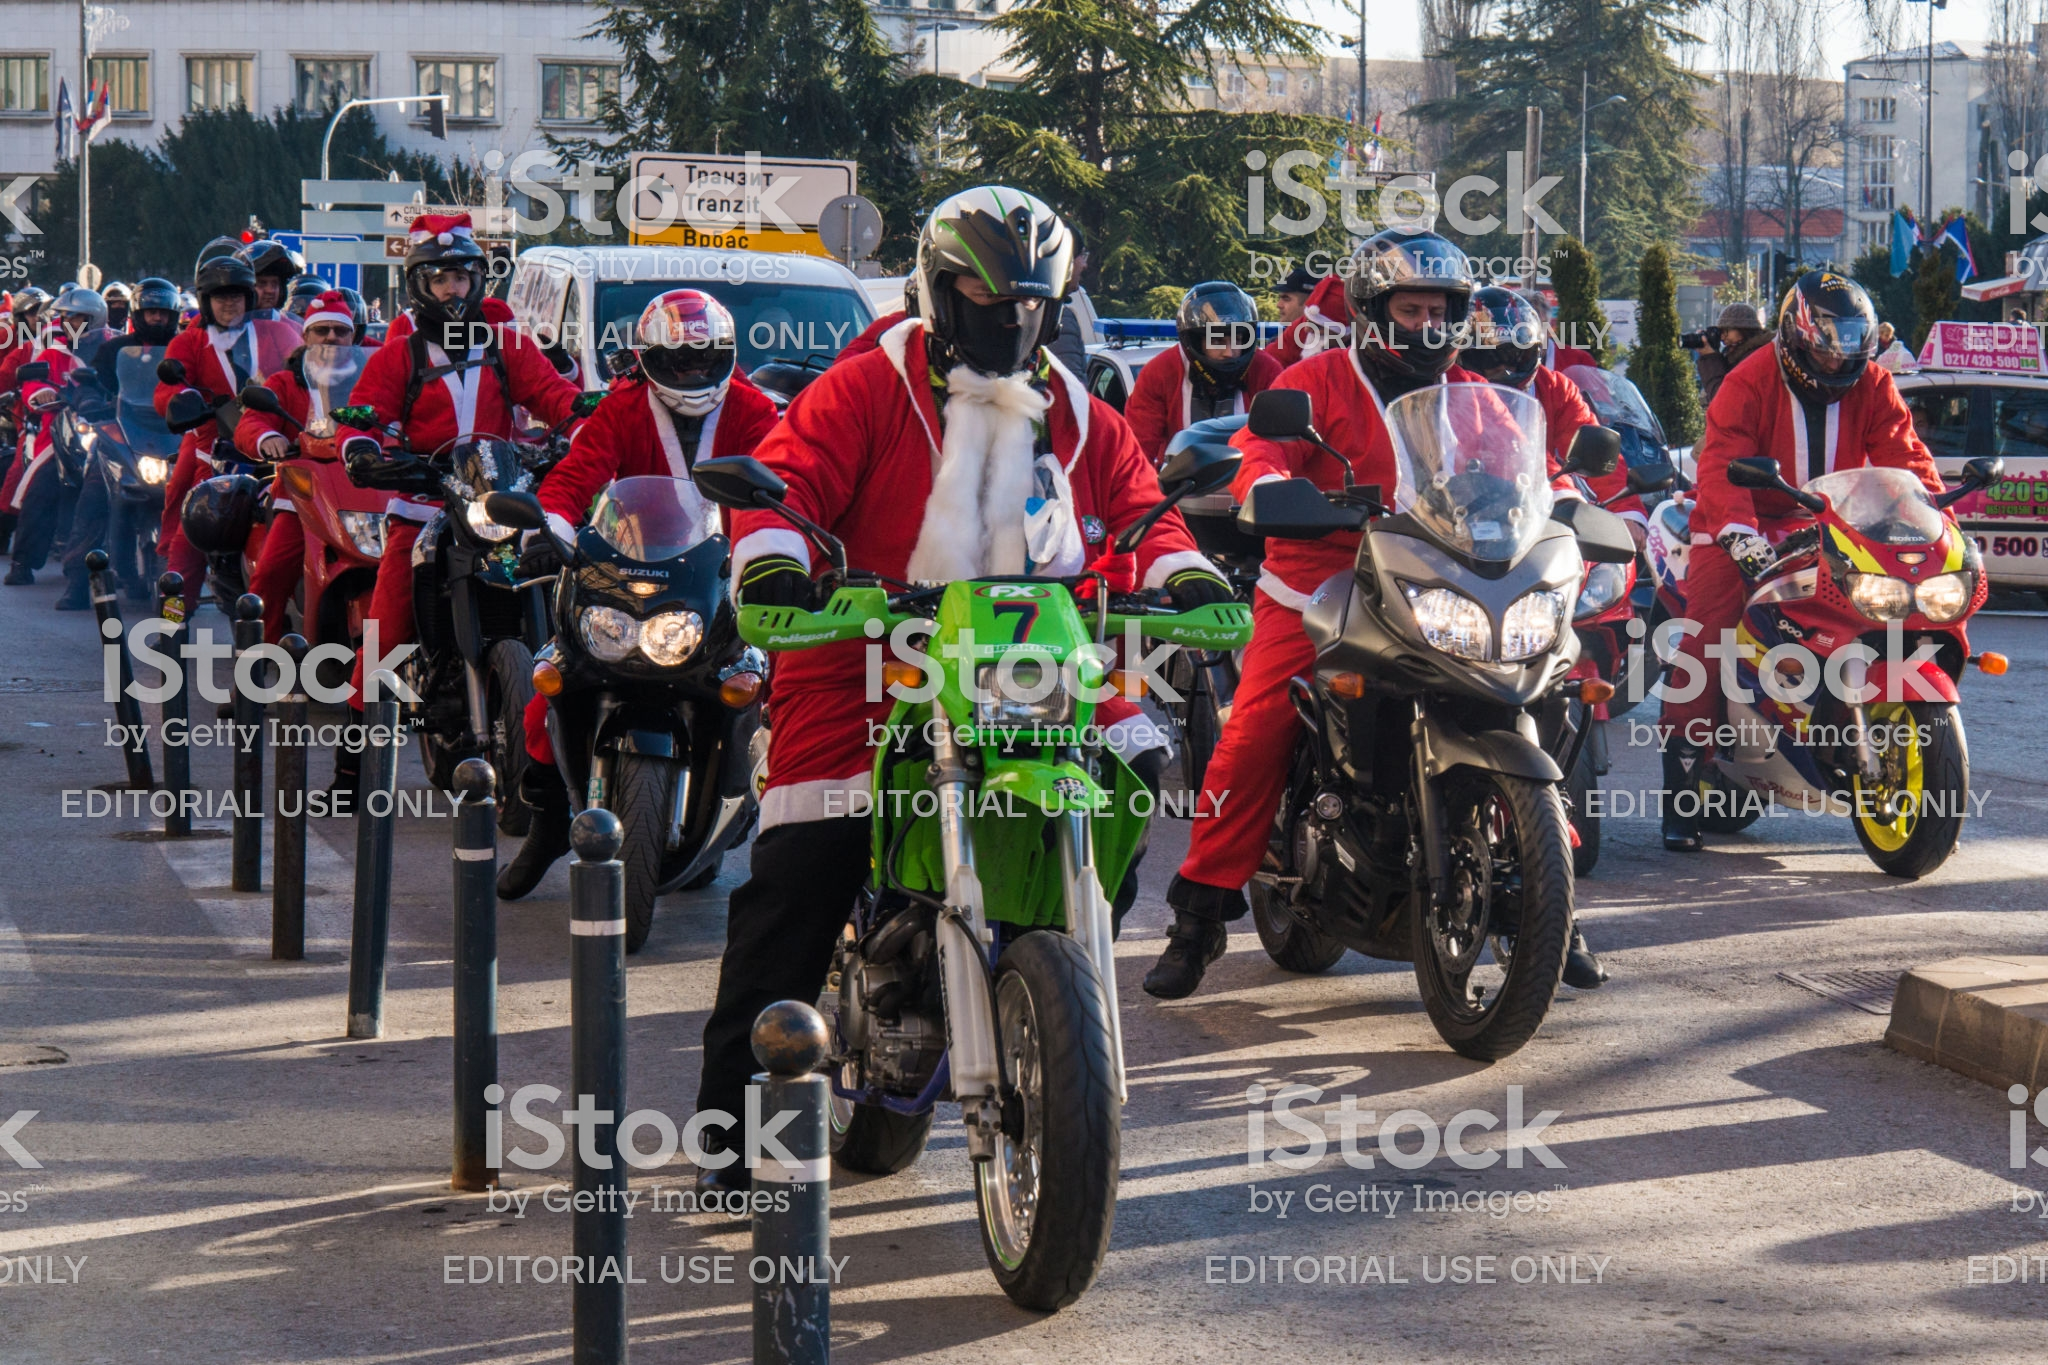helmet: (904, 169, 1070, 382), (1348, 229, 1523, 358), (1786, 267, 1897, 392), (627, 302, 751, 411), (379, 209, 487, 328), (196, 257, 248, 328)
